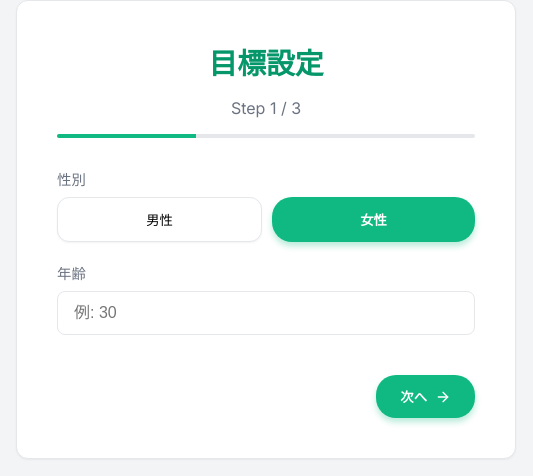
Test: DietPlanWizard › advances to step 2 when next clicked
The width and height of the screenshot is (533, 476).
Click the button "次へ": (426, 396) [376,375,475,418]
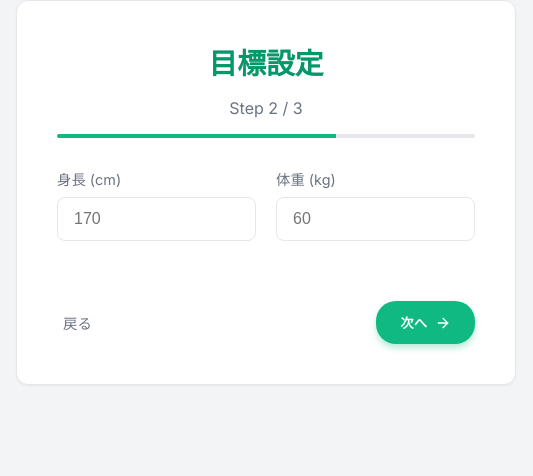
Result: the text "Step 2 / 3" is shown at [229,98,303,118]
Result: the number field with placeholder "170" is shown at [57,197,256,241]
Result: the number field with placeholder "60" is shown at [276,197,475,241]
